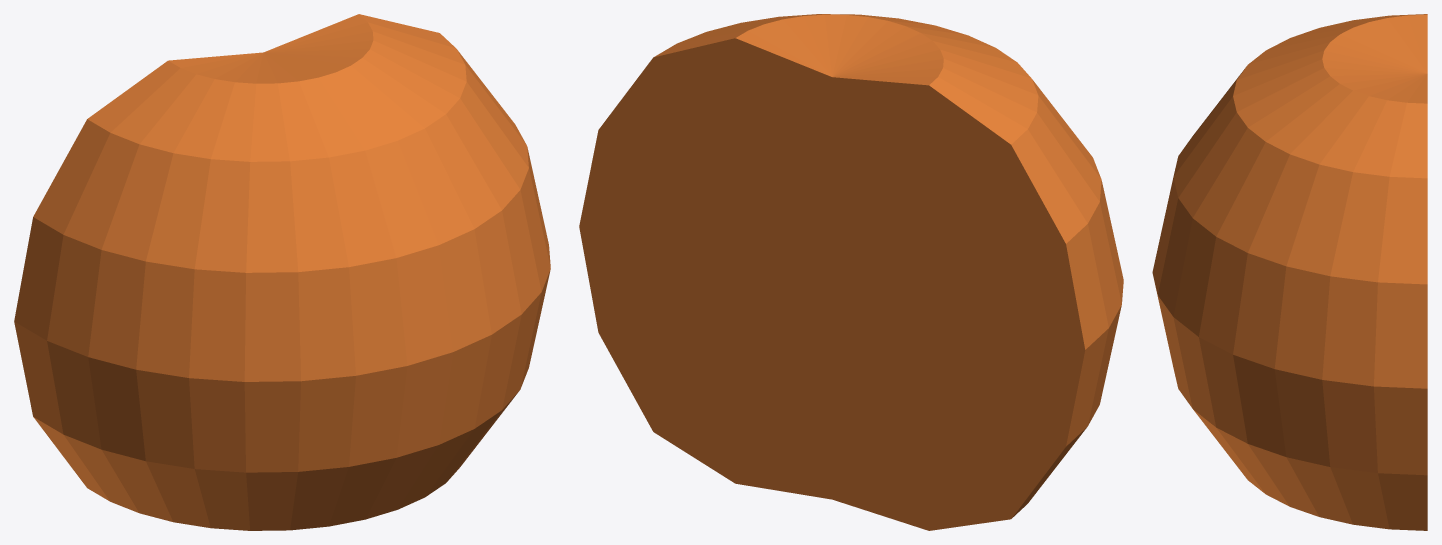
Rendered from tomato_cut.glb.
3 renders of one model, left to right at view 1: azimuth 30°, elevation 25°; view 2: azimuth 150°, elevation 25°; view 3: azimuth 270°, elevation 25°, orthographic. The views are drawn at different scales.
Visible parts, largest first — view 1: Sphere; view 2: Sphere; view 3: Sphere.
Boxes of the visible parts, bbox=[...] form: Sphere: bbox=[14, 14, 550, 530]; Sphere: bbox=[579, 14, 1123, 530]; Sphere: bbox=[1152, 14, 1427, 530].
Bounding box in the file's own units: 3.94 × 3.31 × 1.97.
